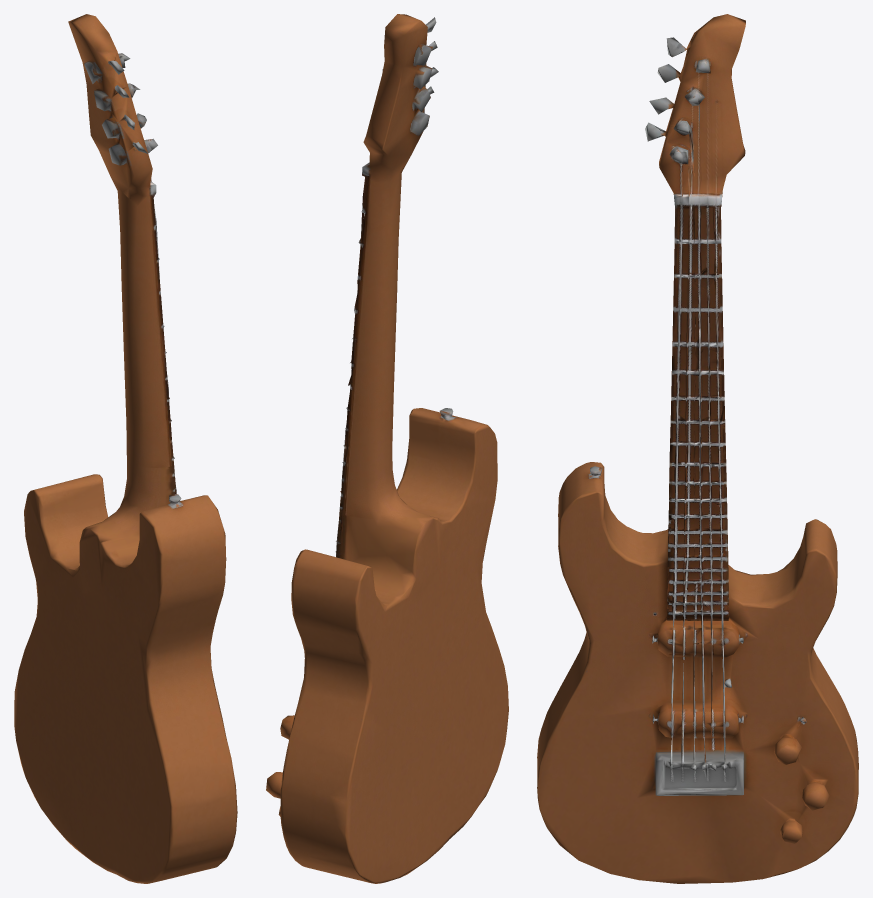
The model's file is guitar_3d_model.fbx.
3 renders of one model, left to right at view 1: azimuth 30°, elevation 25°; view 2: azimuth 150°, elevation 25°; view 3: azimuth 270°, elevation 25°, orthographic. The views are drawn at different scales.
Parts seen in each view (by area): view 1: tripo_node_cfcdf8b7; view 2: tripo_node_cfcdf8b7; view 3: tripo_node_cfcdf8b7.
Part boxes in pixels (box(x1,y1,x2,y2)): tripo_node_cfcdf8b7: box(14, 14, 237, 883); tripo_node_cfcdf8b7: box(266, 14, 508, 883); tripo_node_cfcdf8b7: box(537, 14, 858, 883).
Size of the model in its own units: 0.1192 by 0.98 by 0.3401.
